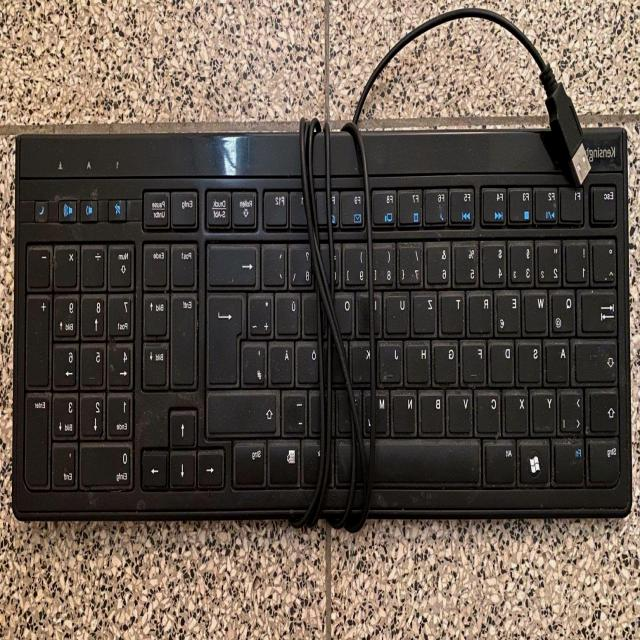1: (567, 237, 591, 283)
2: (539, 237, 564, 283)
3: (511, 239, 536, 284)
4: (484, 239, 508, 283)
5: (456, 238, 481, 284)
6: (428, 239, 453, 284)
7: (401, 239, 425, 284)
8: (374, 240, 398, 285)
9: (345, 241, 370, 286)
a: (548, 337, 572, 382)
accent: (264, 239, 289, 285)
ae: (271, 338, 296, 383)
alt-left: (486, 437, 518, 484)
b: (422, 387, 447, 433)
c: (477, 387, 502, 433)
caret: (595, 237, 619, 281)
d: (491, 337, 516, 383)
del: (209, 239, 260, 285)
e: (497, 287, 523, 333)
enter: (209, 290, 245, 383)
f: (464, 337, 488, 382)
g: (436, 338, 460, 382)
h: (407, 337, 432, 383)
hash: (244, 337, 268, 383)
i: (359, 289, 385, 333)
j: (380, 336, 405, 382)
k: (352, 339, 374, 383)
keyboard: (8, 120, 636, 523)
less: (561, 386, 585, 432)
m: (366, 387, 391, 433)
minus: (284, 387, 309, 433)
n: (394, 388, 419, 433)
o: (332, 288, 357, 334)
oe: (298, 338, 322, 382)
plus: (250, 289, 275, 335)
q: (553, 287, 578, 333)
r: (470, 288, 495, 333)
s: (519, 337, 544, 382)
shift-left: (592, 387, 622, 432)
shift-lock: (577, 337, 620, 381)
shift-right: (208, 387, 280, 432)
space: (374, 435, 482, 483)
ss: (291, 241, 316, 286)
strg-left: (591, 435, 623, 483)
strg-right: (235, 438, 269, 485)
t: (443, 288, 467, 333)
tab: (583, 285, 619, 331)
u: (387, 287, 412, 333)
ue: (276, 292, 301, 338)
v: (450, 387, 474, 432)
w: (526, 287, 550, 332)
x: (506, 388, 530, 432)
y: (534, 387, 558, 432)
z: (414, 288, 439, 333)
